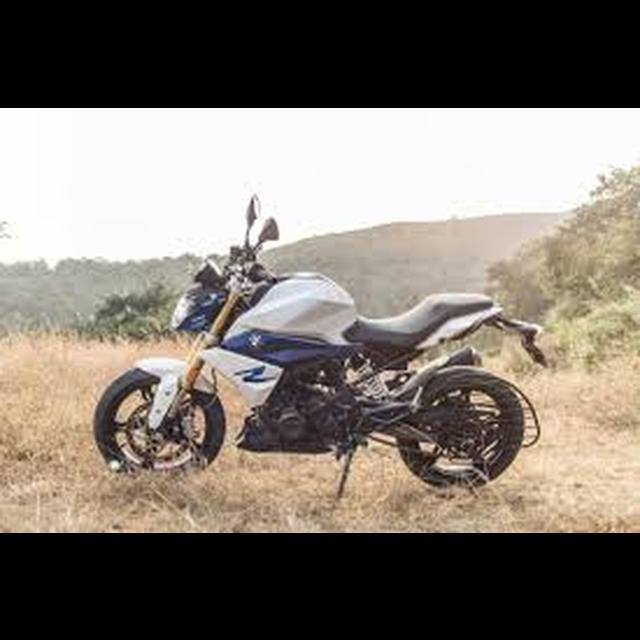motorcycle: (93, 189, 554, 490)
